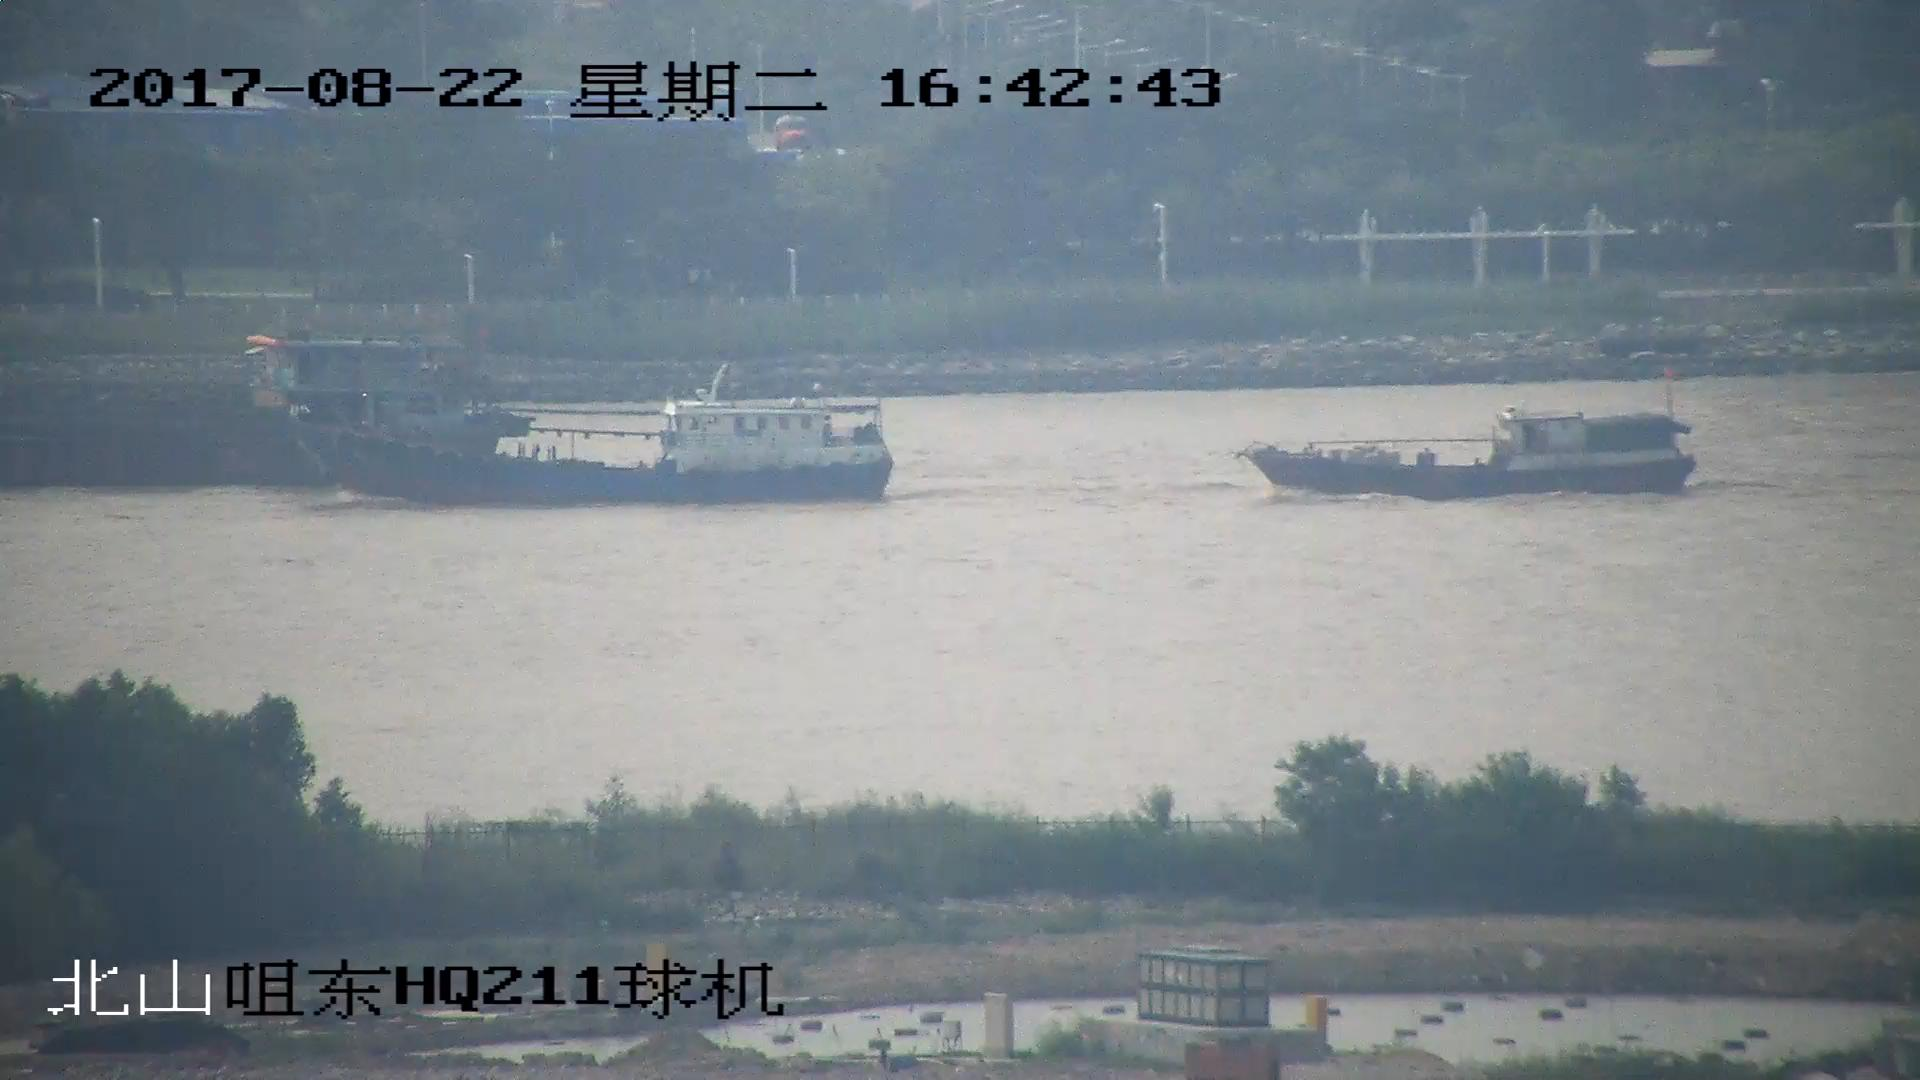bulk cargo carrier: (1, 336, 493, 480)
fishing boat: (297, 371, 893, 512), (1244, 407, 1697, 495)
